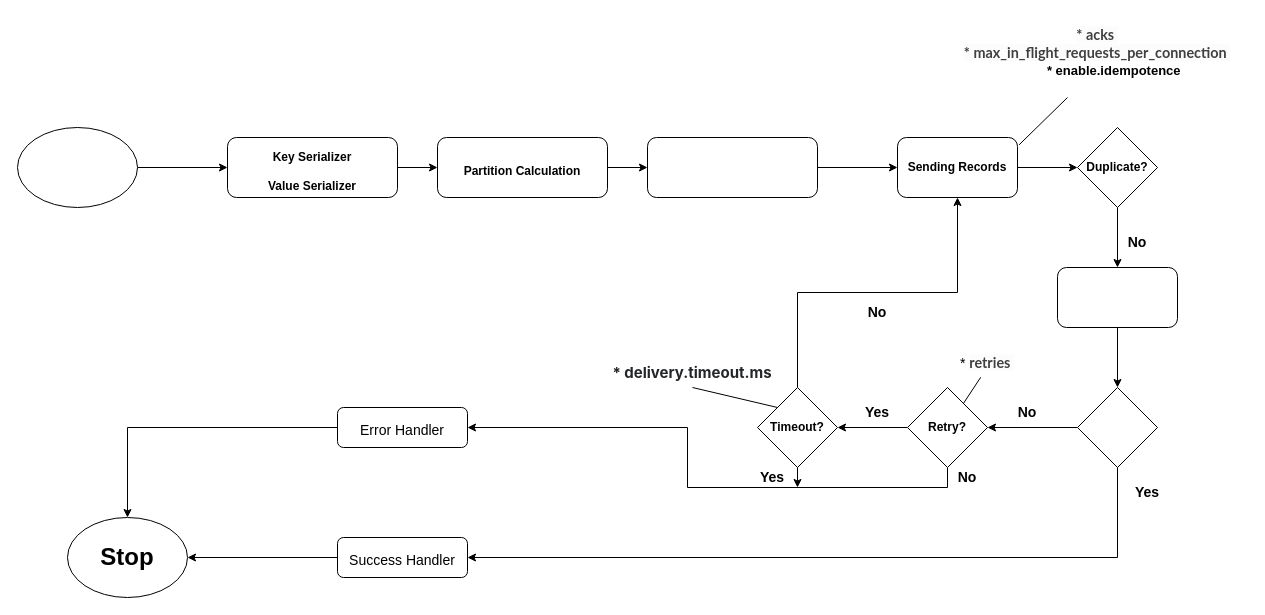
This 1265x615 diagram has some shape labels left out. Here are the shapes that lost their labels. From the top down, the centre of each, then its label:
the point at 77,167: Start
the point at 732,167: Batching Records
the point at 1117,297: Persist to Leader & Replicas
the point at 1117,427: Success?
